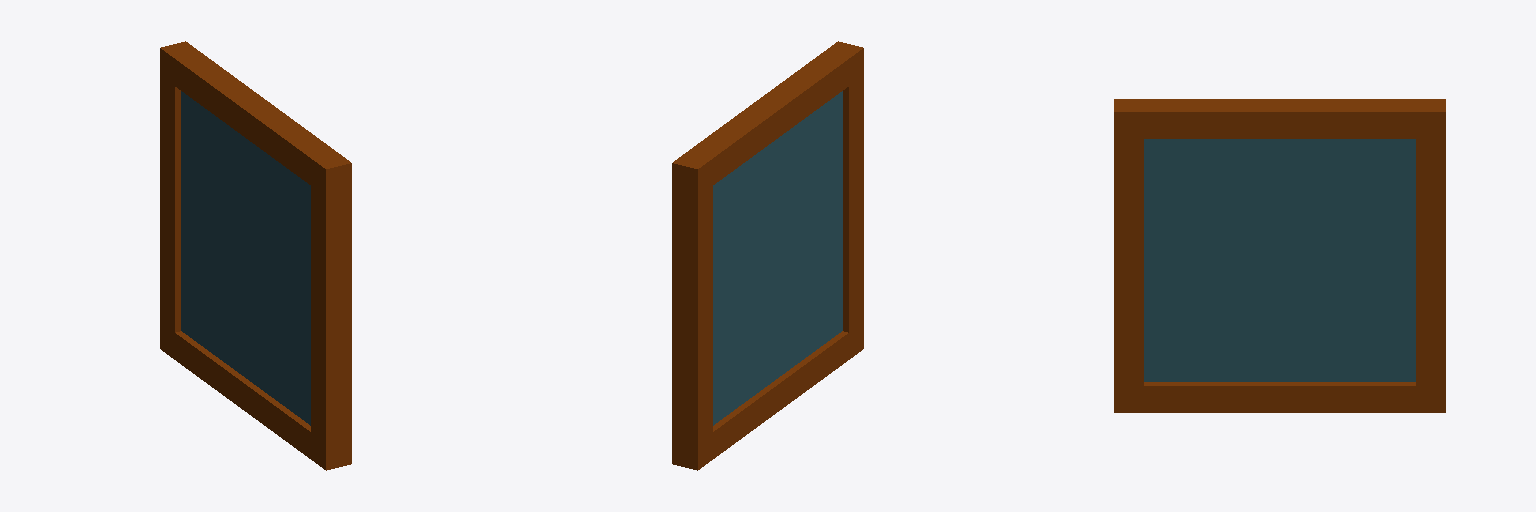
File: Windows.obj
3 views of the same model, side by side, from view 1: azimuth 30°, elevation 25°; view 2: azimuth 150°, elevation 25°; view 3: azimuth 270°, elevation 25° (orthographic).
Parts seen in each view (by area): view 1: Plane.001_Plane.002, Cube.002_Cube.010; view 2: Plane.001_Plane.002, Cube.002_Cube.010; view 3: Plane_Plane.001, Cube.002_Cube.010.
Part boxes in pixels (x1,y1,x2,y2): Plane.001_Plane.002: (181, 91, 310, 425); Cube.002_Cube.010: (160, 41, 351, 470); Plane.001_Plane.002: (713, 91, 842, 425); Cube.002_Cube.010: (672, 41, 863, 470); Plane_Plane.001: (1144, 139, 1415, 381); Cube.002_Cube.010: (1114, 99, 1445, 412).
Size of the model in its own units: 0.2 by 2.2 by 2.2.